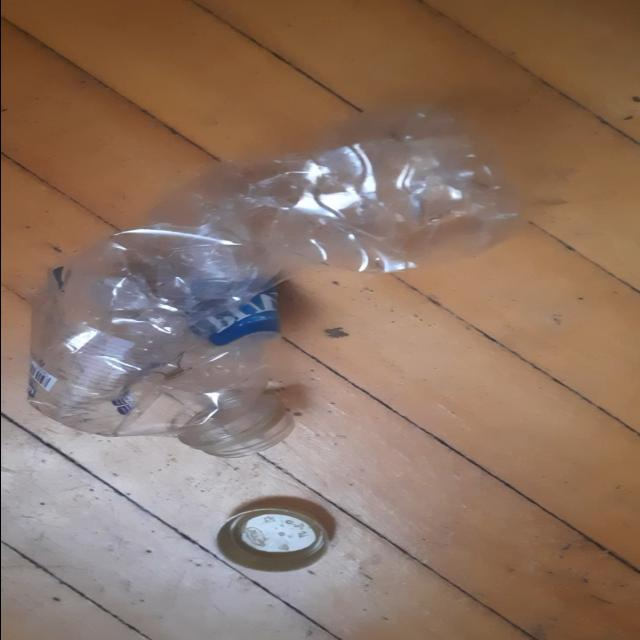Plastic: (27, 108, 525, 458)
